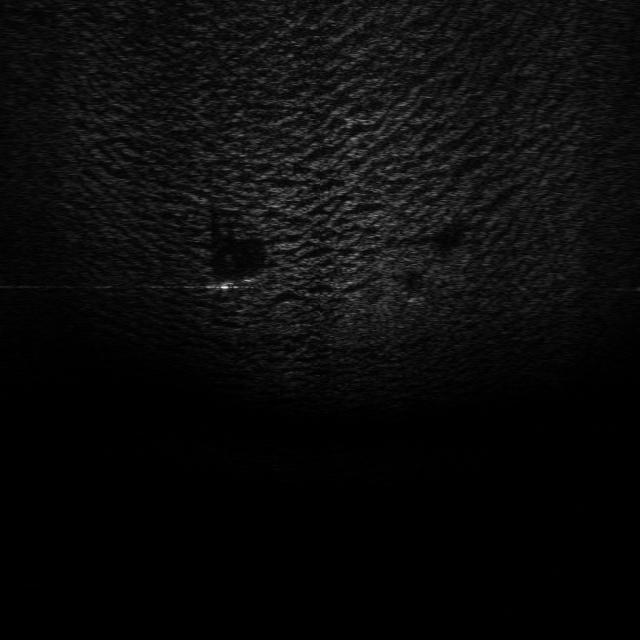plane: (207, 268, 269, 294)
